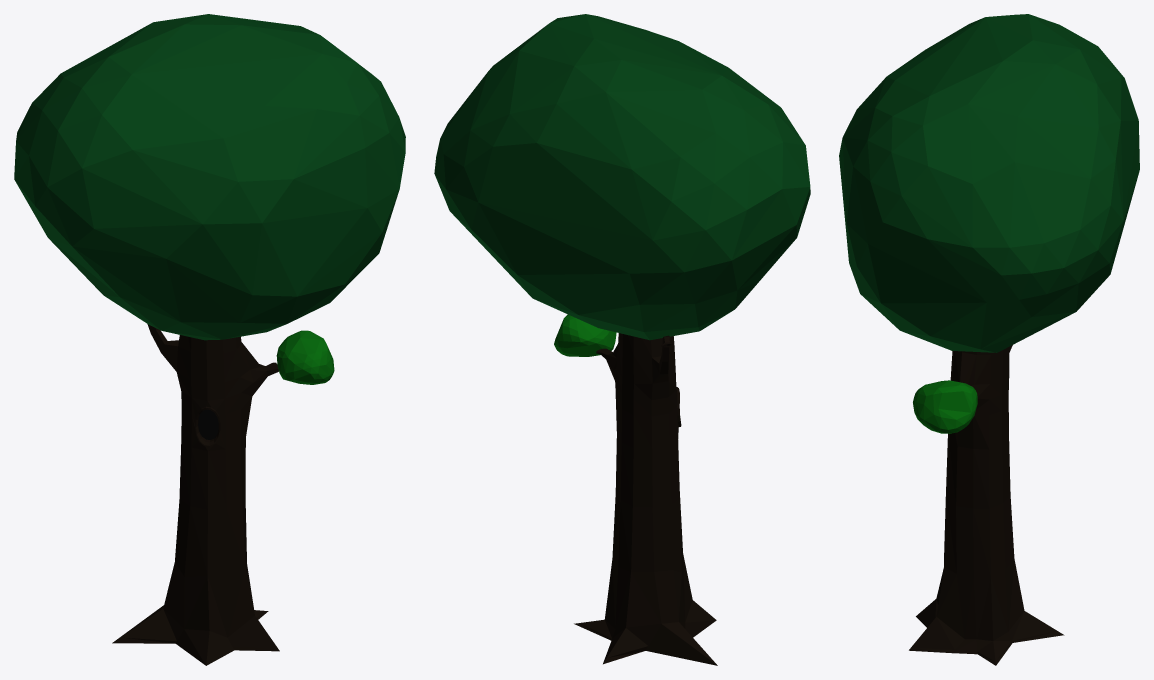
The model's file is Oak Tree.FBX.
The picture shows the model from 3 angles, left to right: view 1: azimuth 30°, elevation 25°; view 2: azimuth 150°, elevation 25°; view 3: azimuth 270°, elevation 25°; orthographic projection.
Parts seen in each view (by area): view 1: Cylinder001; view 2: Cylinder001; view 3: Cylinder001.
Part boxes in pixels (x1,y1,x2,y2): Cylinder001: [14, 14, 405, 665]; Cylinder001: [434, 14, 810, 665]; Cylinder001: [839, 14, 1139, 665].
Bounding box in the file's own units: 86.12 × 139 × 63.83.
